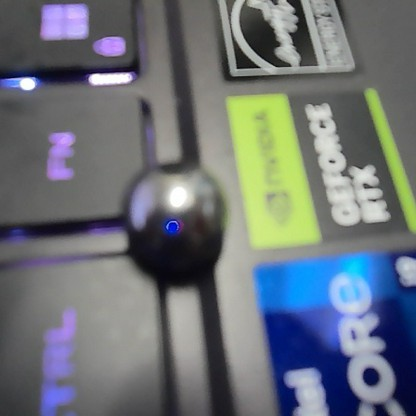ironball: (119, 160, 231, 271)
